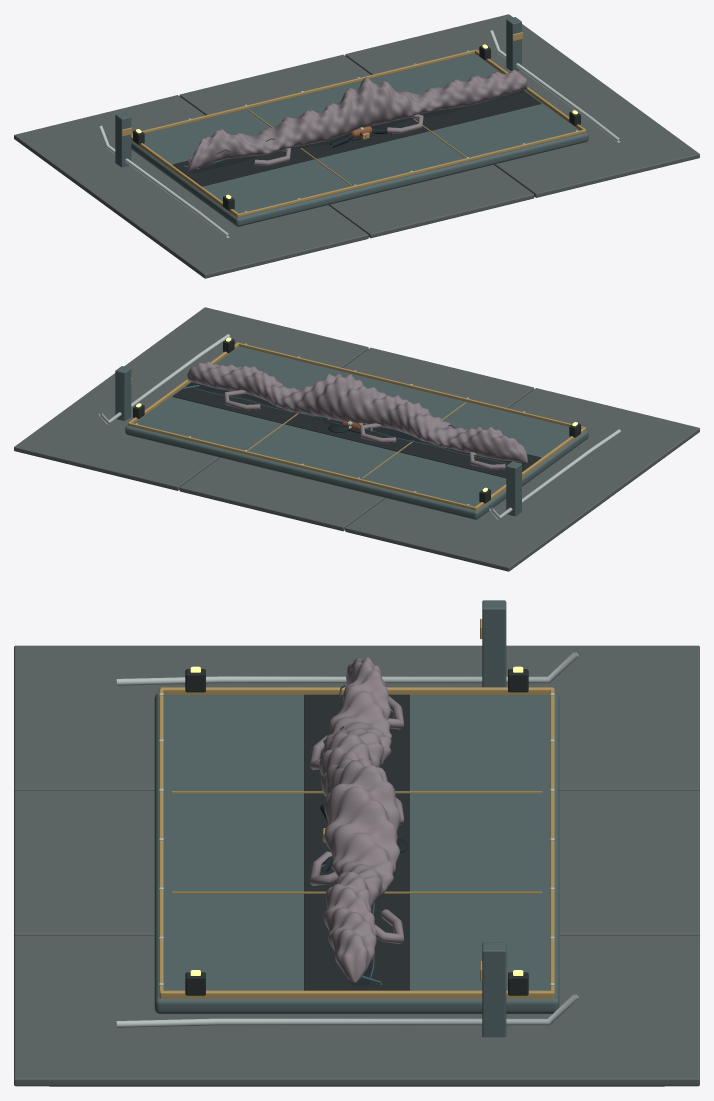
File: equipment-library-v4.glb
3 views of the same model, one above another, from view 1: azimuth 30°, elevation 25°; view 2: azimuth 150°, elevation 25°; view 3: azimuth 270°, elevation 25° (orthographic). The views are drawn at different scales.
Parts seen in each view (by area): view 1: Battle platform, Concrete slab, Concrete slab.002, Concrete slab.001, CreatureBody, Central inlay, Brass frame, Brass frame.001, ShadowBody, Checkpoint bollard, Exposed conduit.001, Checkpoint bollard.001 (+3 smaller); view 2: Battle platform, Concrete slab, Concrete slab.002, Concrete slab.001, CreatureBody, Central inlay, Brass frame.001, Brass frame, ShadowBody, Checkpoint bollard.001, Checkpoint bollard, Exposed conduit (+3 smaller); view 3: Battle platform, Concrete slab.002, Concrete slab, Concrete slab.001, CreatureBody, Central inlay, Exposed conduit.001, Side frame.001, Exposed conduit, Side frame, Checkpoint bollard.001, Checkpoint bollard (+4 smaller).
Part boxes in pixels (bbox=[...]): Battle platform: bbox=[131, 53, 588, 226]; Concrete slab: bbox=[14, 95, 368, 278]; Concrete slab.002: bbox=[345, 14, 699, 197]; Concrete slab.001: bbox=[179, 54, 534, 238]; CreatureBody: bbox=[188, 70, 527, 171]; Central inlay: bbox=[172, 92, 541, 186]; Brass frame: bbox=[238, 130, 585, 217]; Brass frame.001: bbox=[131, 50, 474, 135]; ShadowBody: bbox=[189, 90, 525, 173]; Checkpoint bollard: bbox=[115, 112, 131, 167]; Exposed conduit.001: bbox=[489, 30, 620, 142]; Checkpoint bollard.001: bbox=[506, 17, 521, 70]; Battle platform: bbox=[125, 346, 588, 519]; Concrete slab: bbox=[345, 388, 699, 571]; Concrete slab.002: bbox=[14, 307, 368, 490]; Concrete slab.001: bbox=[179, 347, 534, 531]; CreatureBody: bbox=[187, 361, 527, 462]; Central inlay: bbox=[172, 382, 541, 478]; Brass frame.001: bbox=[128, 423, 475, 510]; Brass frame: bbox=[239, 343, 583, 428]; ShadowBody: bbox=[186, 382, 526, 465]; Checkpoint bollard.001: bbox=[115, 366, 131, 420]; Checkpoint bollard: bbox=[506, 461, 521, 516]; Exposed conduit: bbox=[489, 429, 620, 519]; Battle platform: bbox=[154, 693, 559, 1013]; Concrete slab.002: bbox=[14, 935, 699, 1086]; Concrete slab: bbox=[14, 645, 699, 791]; Concrete slab.001: bbox=[14, 790, 699, 936]; CreatureBody: bbox=[319, 657, 400, 982]; Central inlay: bbox=[304, 694, 409, 990]; Exposed conduit.001: bbox=[116, 993, 578, 1027]; Side frame.001: bbox=[159, 990, 554, 998]; Exposed conduit: bbox=[116, 651, 578, 685]; Side frame: bbox=[160, 687, 553, 694]; Checkpoint bollard.001: bbox=[482, 942, 506, 1037]; Checkpoint bollard: bbox=[482, 600, 506, 687].
Bounding box in the file's own units: 14.96 × 2.11 × 10.
